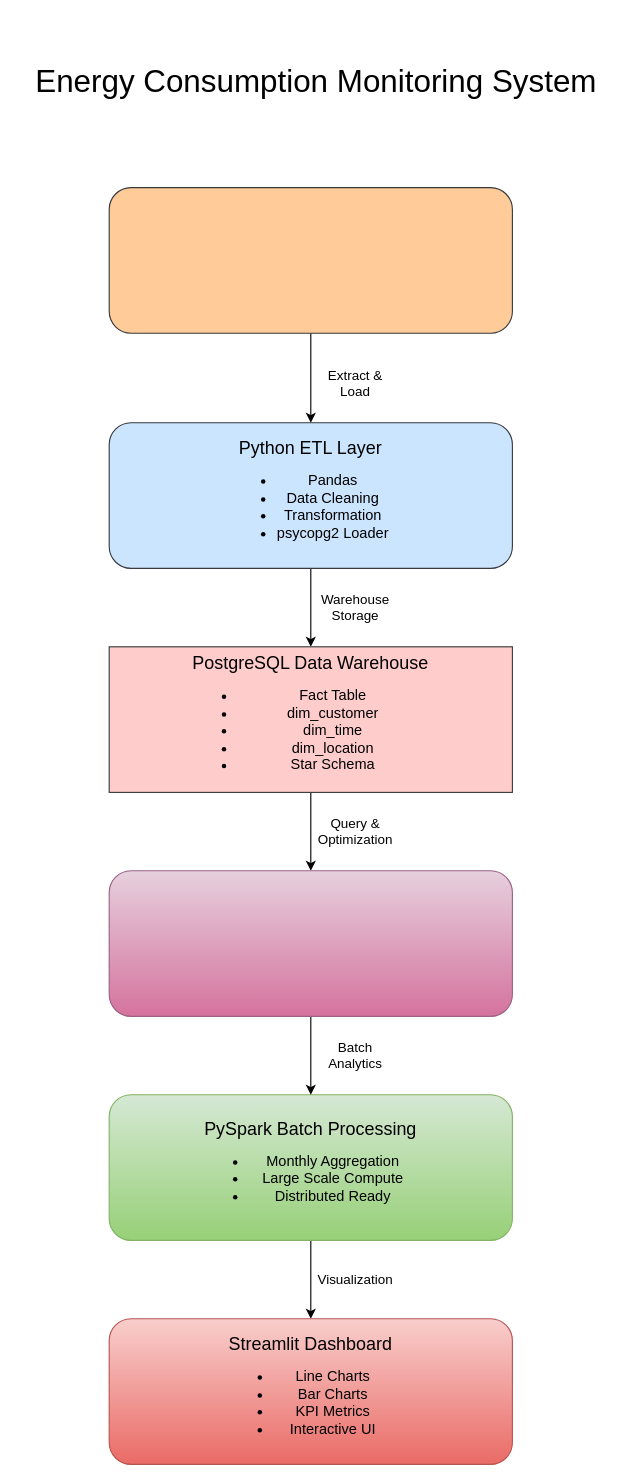
This 632x1484 diagram has some shape labels left out. Each missing label, with the centre of its shape:
"Advanced SQL Engine CTE Window Functions Indexing Performance Tuning" goes at point (310, 943).
"Energy Data Source energy_data.csv Time-series data Customer & Region" goes at point (310, 259).
